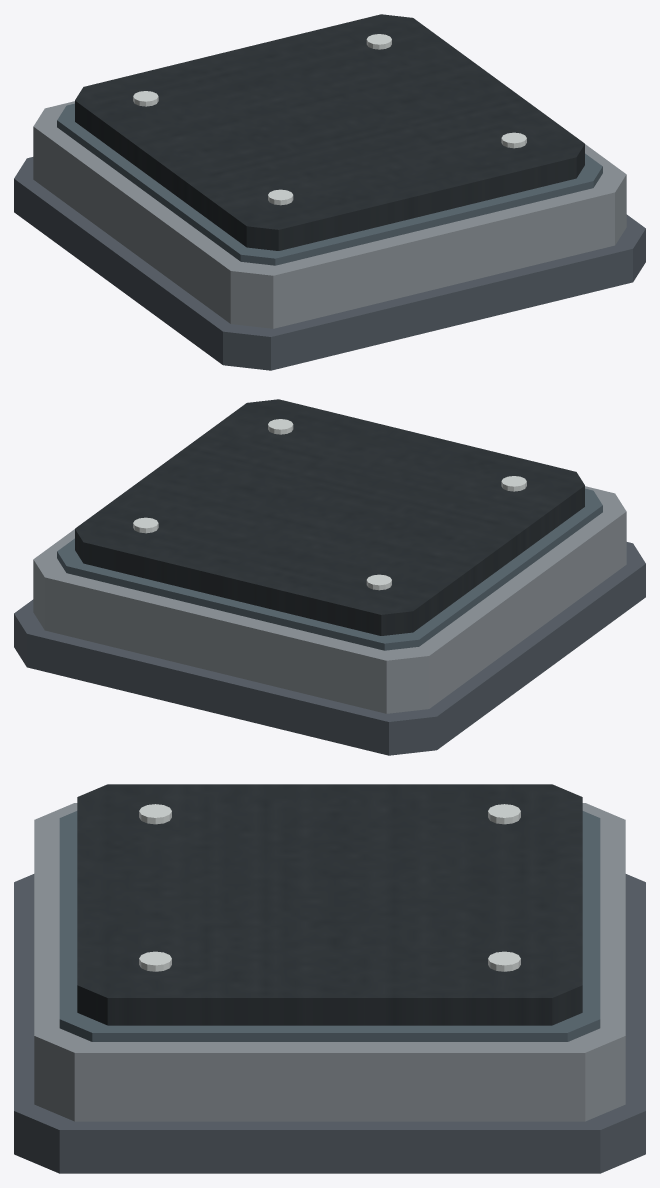
Rendered from m03-metal-corner-sw.glb.
3 views of the same model, one above another, from view 1: azimuth 30°, elevation 25°; view 2: azimuth 150°, elevation 25°; view 3: azimuth 270°, elevation 25° (orthographic). The views are drawn at different scales.
Parts seen in each view (by area): view 1: corner-sw/003, corner-sw/001, corner-sw/000, corner-sw/002; view 2: corner-sw/003, corner-sw/001, corner-sw/000, corner-sw/002; view 3: corner-sw/003, corner-sw/001, corner-sw/000, corner-sw/002, corner-sw/004, corner-sw/006, corner-sw/005, corner-sw/007.
Boxes of the visible parts, x1,y1,x2,y2 form: corner-sw/003: (75, 14, 584, 250); corner-sw/001: (33, 101, 626, 328); corner-sw/000: (14, 157, 645, 370); corner-sw/002: (57, 103, 602, 265); corner-sw/003: (75, 399, 584, 635); corner-sw/001: (33, 486, 626, 713); corner-sw/000: (14, 542, 645, 755); corner-sw/002: (57, 488, 602, 650); corner-sw/003: (77, 784, 582, 1025); corner-sw/001: (34, 803, 625, 1121); corner-sw/000: (14, 874, 645, 1173); corner-sw/002: (59, 811, 600, 1041); corner-sw/004: (488, 804, 520, 824); corner-sw/006: (139, 804, 171, 824); corner-sw/005: (488, 951, 520, 971); corner-sw/007: (139, 951, 171, 971).
Size of the model in its own units: 0.25 by 0.0678 by 0.25.
Materials: 5 (1 with a texture image).
